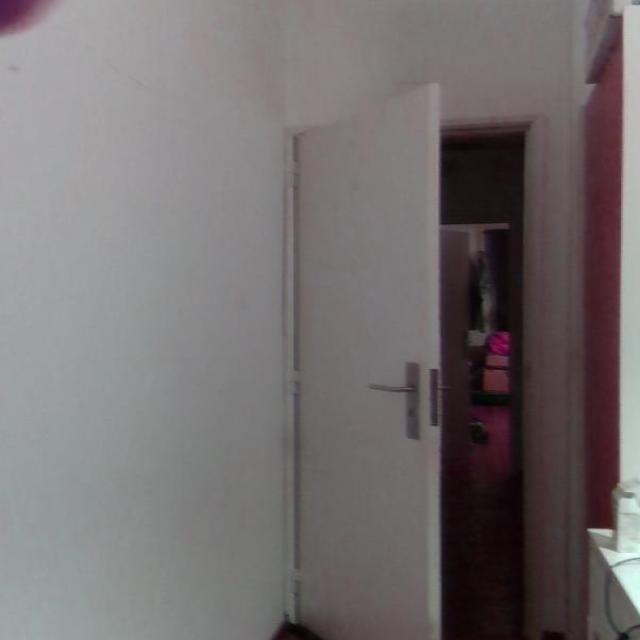Door: (290, 80, 443, 638)
